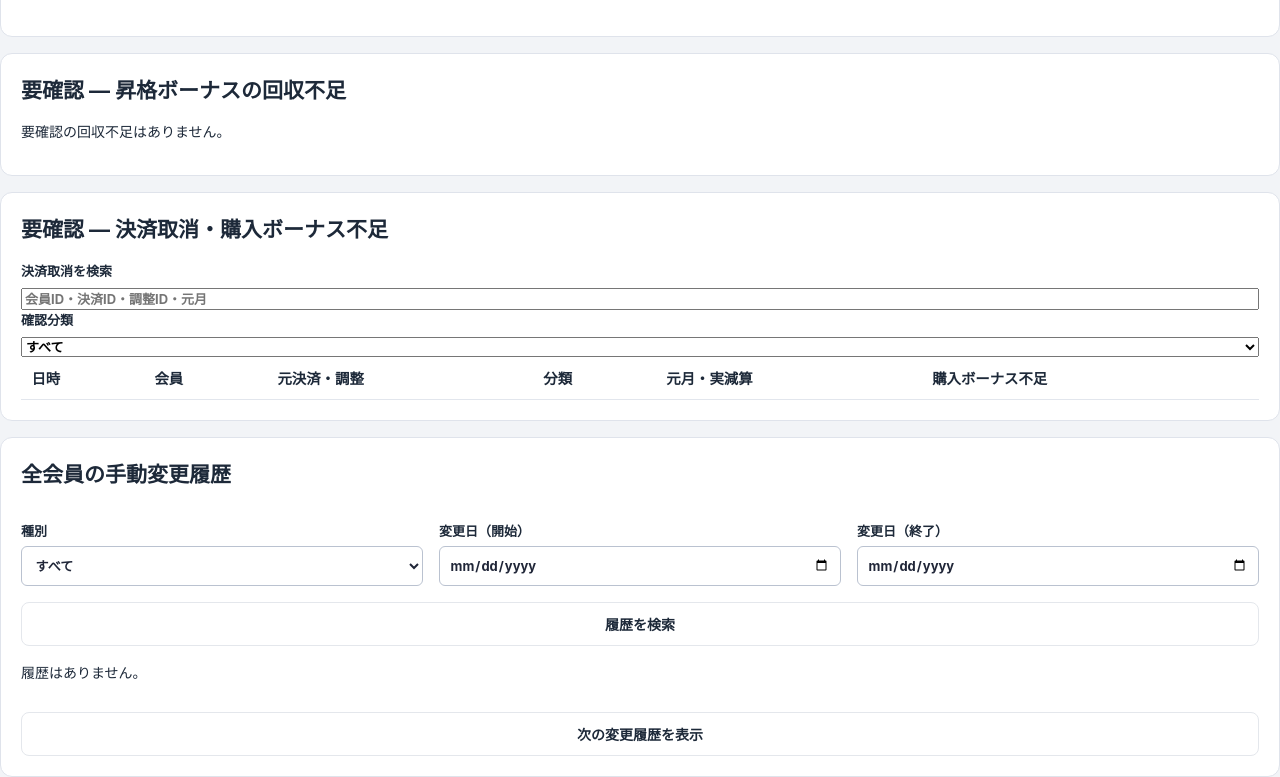
Test: Member rank management › discards an old manual-history page after applying new filters
The width and height of the screenshot is (1280, 777).
(page scrolled)
Click the button "次の変更履歴を表示" at (640, 734), box [21, 712, 1259, 756]
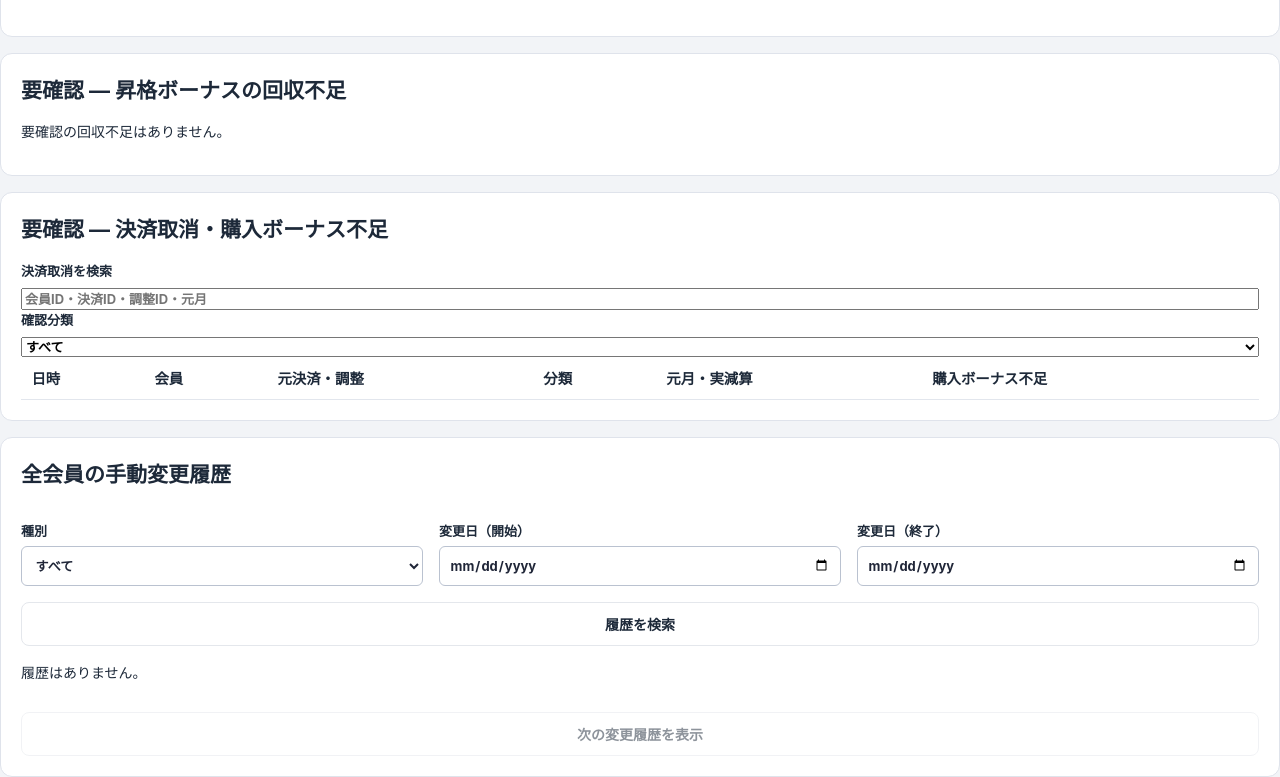
Select "引き継ぎ" in the dropdown labelled "種別" at (222, 566), box [21, 546, 423, 586]
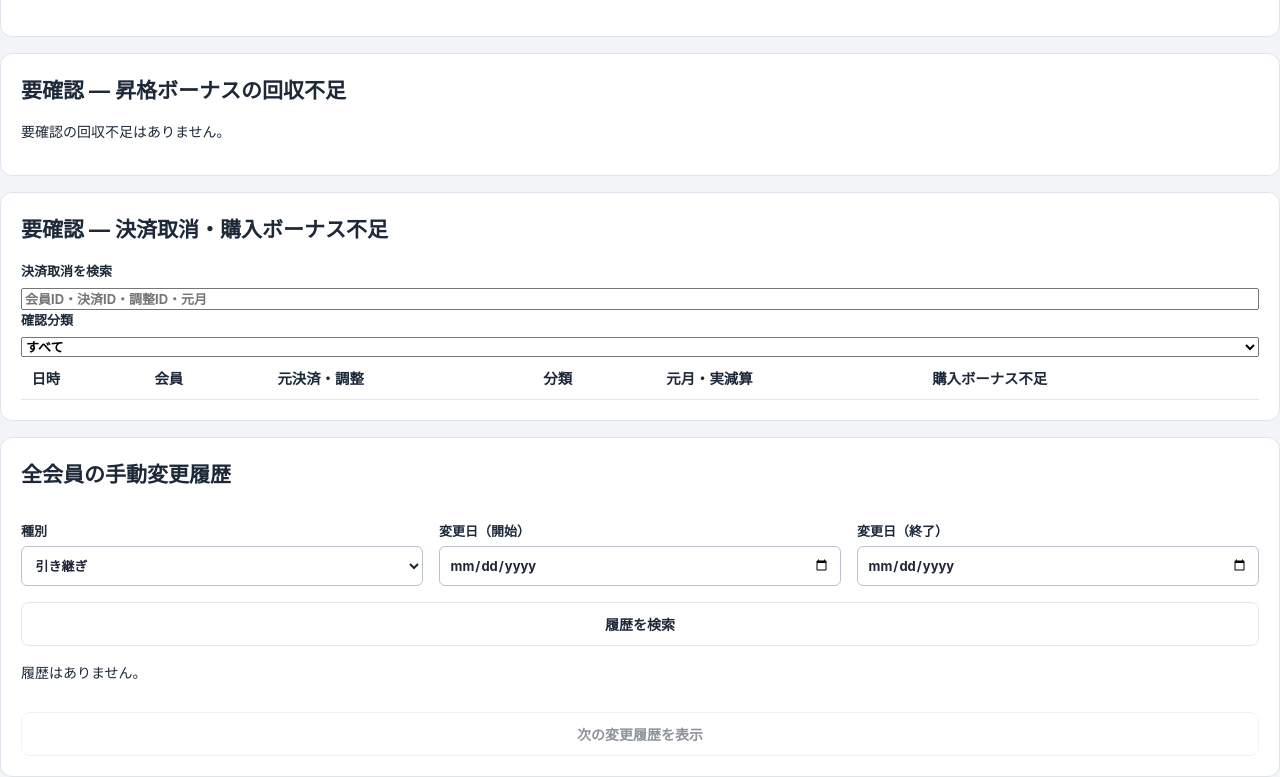
Click the button "履歴を検索" at (640, 624), box [21, 602, 1259, 646]
(page scrolled)
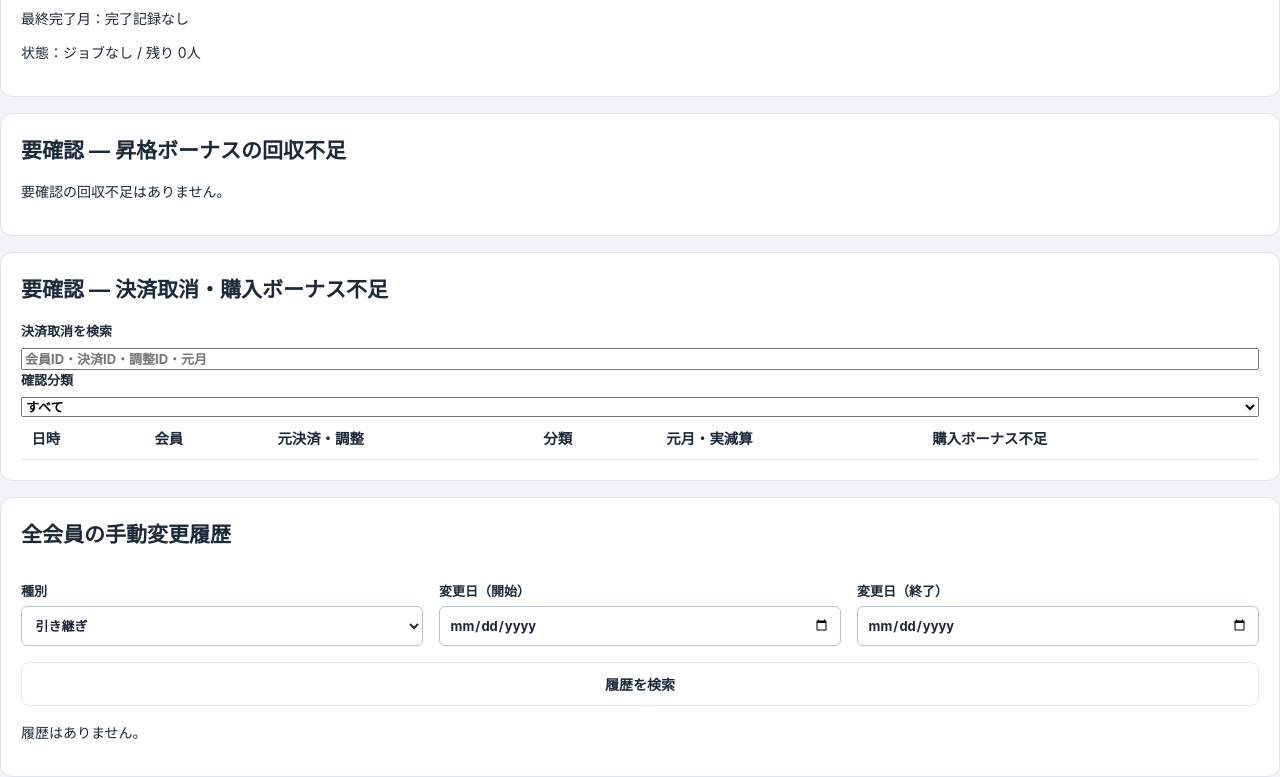
Expected: the button "次の変更履歴を表示" is gone
